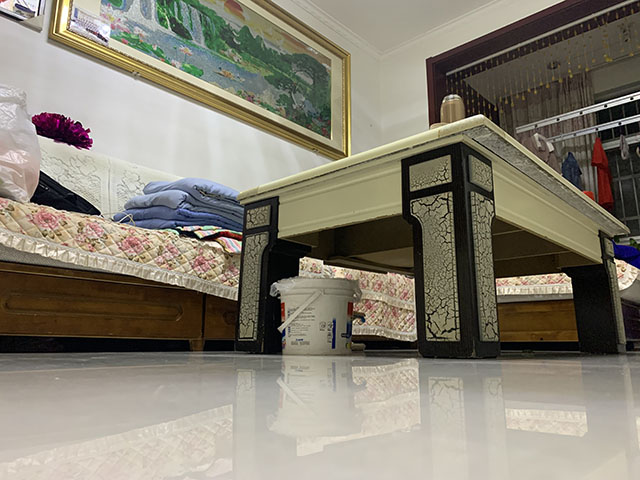sofa: (1, 82, 243, 352)
table: (235, 114, 630, 358)
